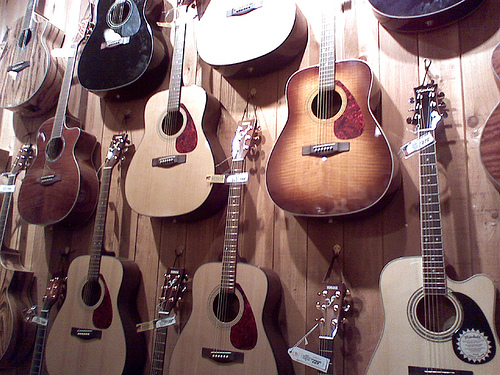guitar: (364, 82, 500, 375), (166, 118, 289, 375), (264, 1, 399, 221), (43, 131, 144, 375), (126, 1, 232, 222), (20, 37, 99, 229), (77, 1, 169, 102), (1, 1, 64, 116)
